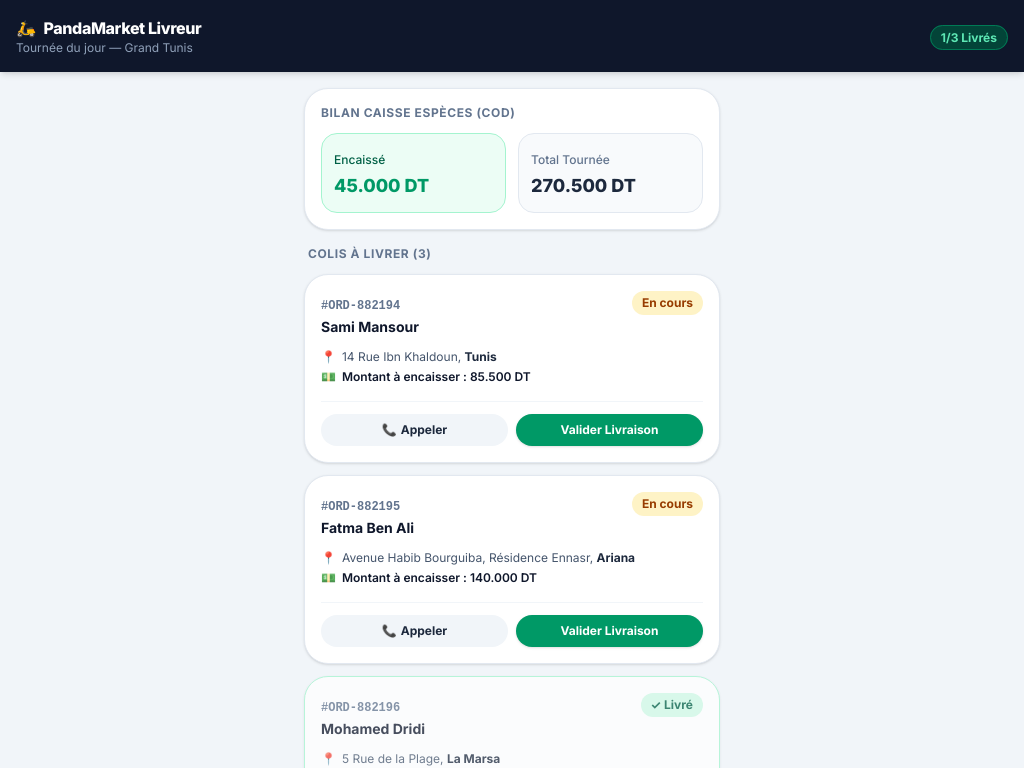
PLAN-T4-02: Cash on Delivery (COD) Driver & Courier Mobile Console › opens delivery OTP modal and completes delivery handshake
Click the button "Valider Livraison" below "85.500" at [610, 430], box top-left (516, 414), bottom-right (703, 446)
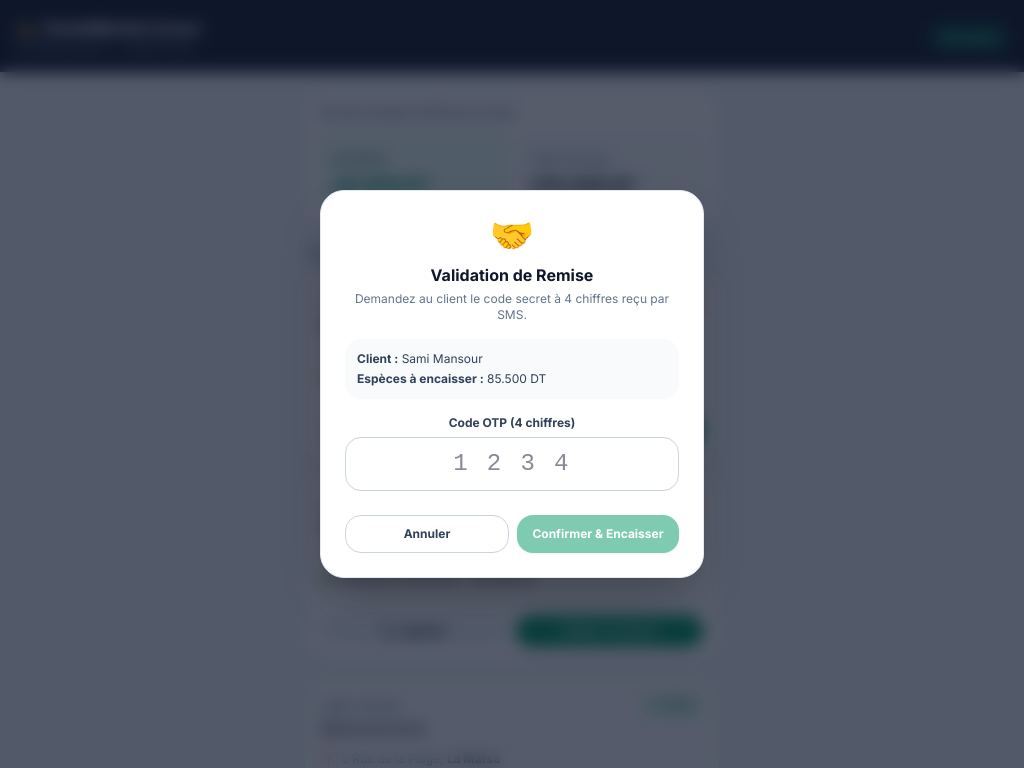
Check: the heading "Validation de Remise" is shown, box top-left (431, 265), bottom-right (593, 285)
Check: the text "Code OTP (4 chiffres)" is shown, box top-left (449, 415), bottom-right (575, 430)
Type "8821" into the field with placeholder "1 2 3 4" at [512, 464], box top-left (345, 437), bottom-right (679, 491)
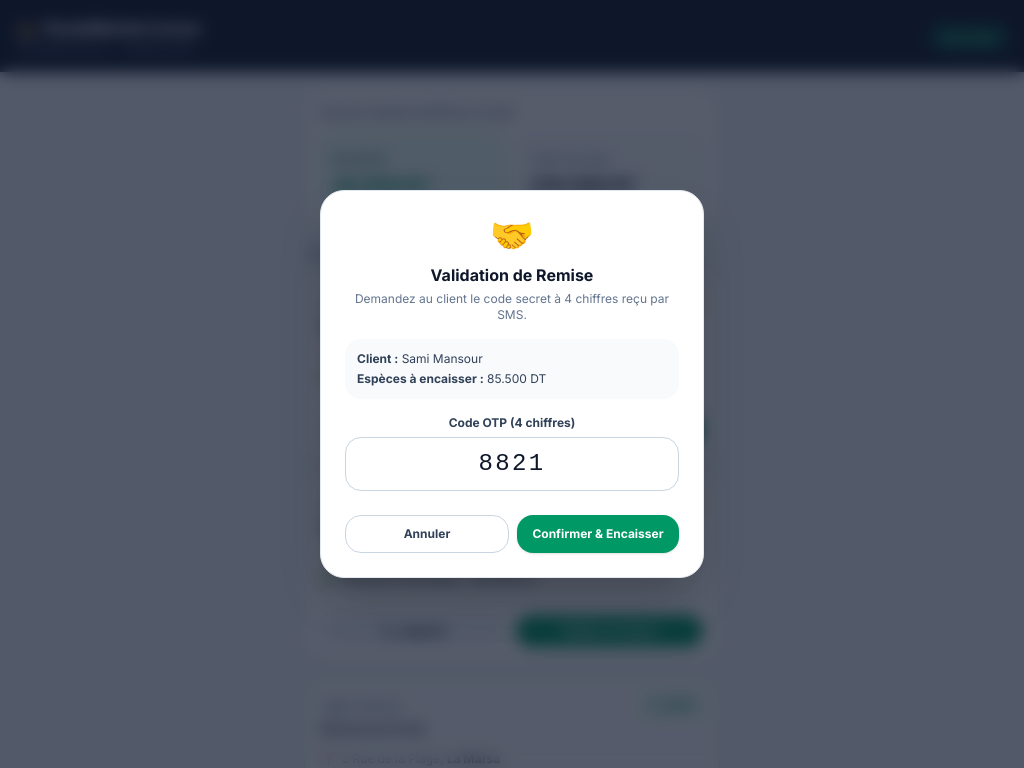
Click the button "Confirmer & Encaisser" at [598, 534], box top-left (517, 515), bottom-right (679, 553)
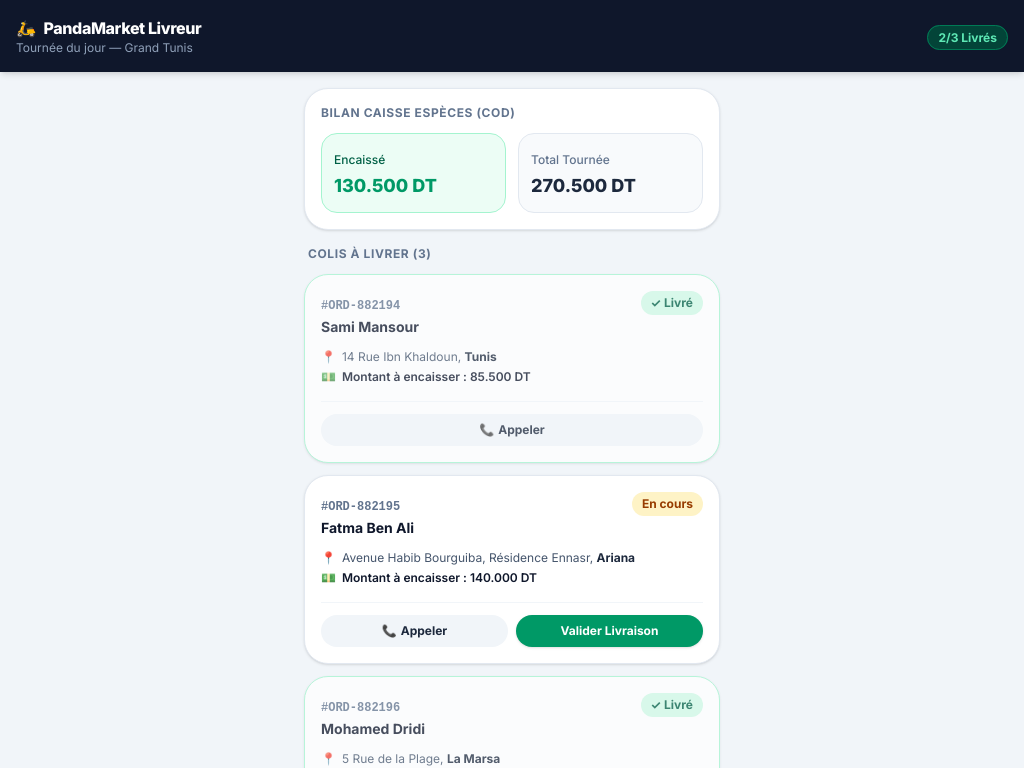
Check: the heading "Validation de Remise" is gone
